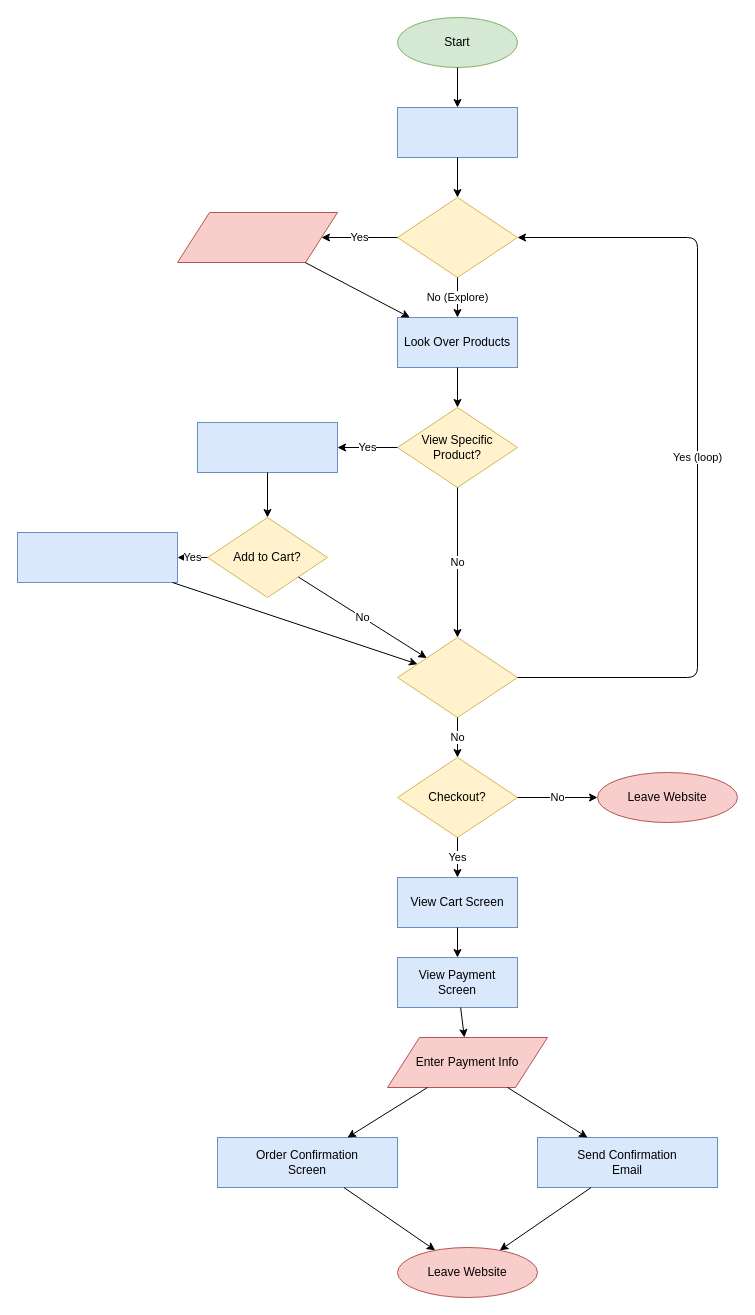
This 755x1315 diagram has some shape labels left out. The shapes that lost their labels are listed below. From the top down, each one's box as (x1, y1, x2, y2) in pixels, then its label:
(396, 106, 518, 158): Enter Website
(176, 212, 338, 262): Provide Search Input
(396, 196, 518, 278): Search for Product?
(196, 422, 338, 472): Open Product Webpage
(16, 532, 178, 582): Added to Cart Confirmation
(396, 636, 518, 718): Continue Shopping?
